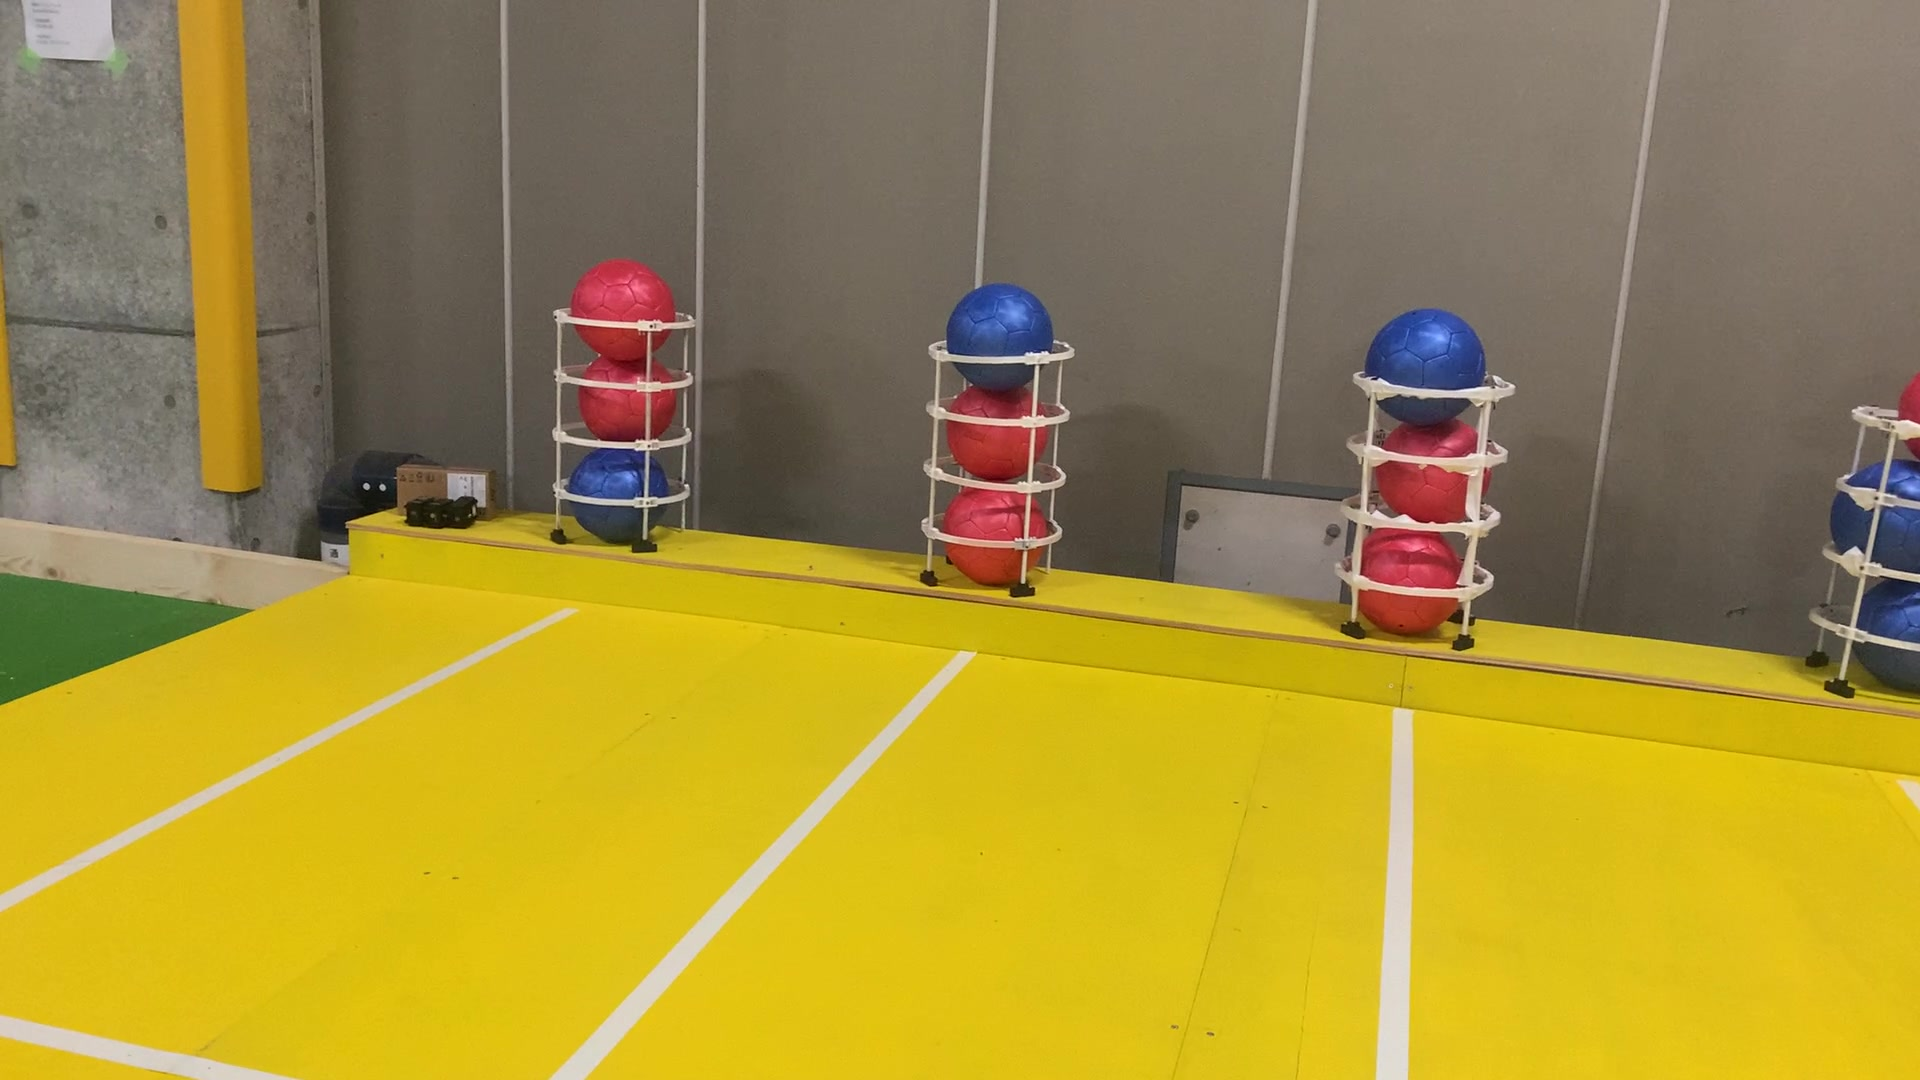blue: (1361, 301, 1490, 426), (558, 442, 662, 550), (953, 277, 1054, 389), (1832, 455, 1920, 579), (1854, 574, 1920, 691)
red: (1342, 517, 1465, 640), (1367, 417, 1490, 526), (559, 252, 678, 357), (935, 483, 1051, 584), (939, 385, 1051, 483), (578, 352, 678, 442), (1891, 360, 1920, 471)
